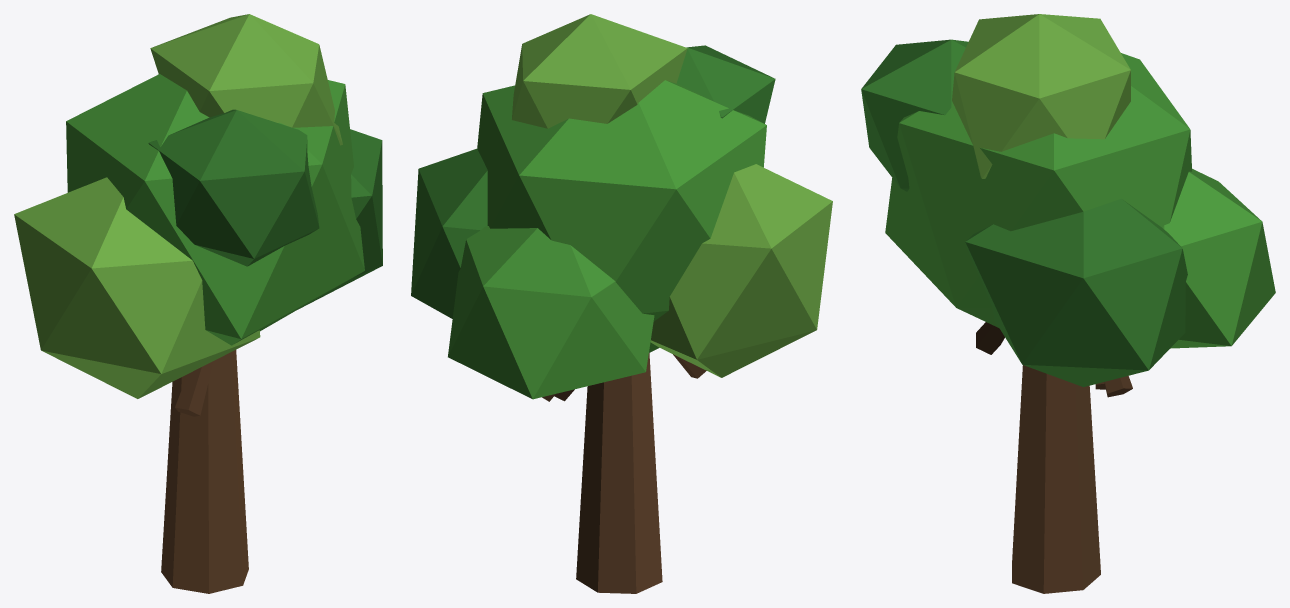
File: TreeOak.glb
3 views of the same model, side by side, from view 1: azimuth 30°, elevation 25°; view 2: azimuth 150°, elevation 25°; view 3: azimuth 270°, elevation 25° (orthographic). The views are drawn at different scales.
Visible parts, largest first — view 1: TreeOak; view 2: TreeOak; view 3: TreeOak.
Boxes of the visible parts, <box> form: TreeOak: <box>14,14,382,593</box>; TreeOak: <box>411,14,832,593</box>; TreeOak: <box>861,14,1275,593</box>.
Bounding box in the file's own units: 3.05 × 4.36 × 2.83.
